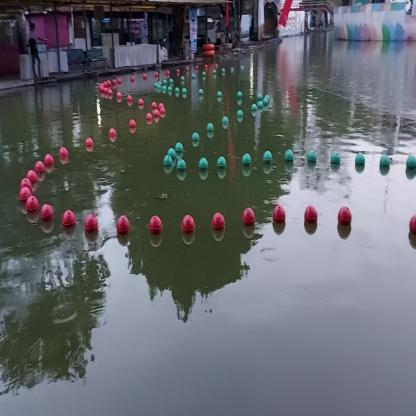green_buoy: (406, 155, 416, 178), (243, 149, 252, 174), (163, 154, 175, 172), (356, 152, 366, 173), (262, 148, 273, 166), (216, 156, 227, 174), (330, 152, 340, 171), (167, 145, 178, 162), (308, 147, 317, 165), (380, 155, 390, 171), (201, 157, 209, 176), (286, 147, 294, 164), (177, 158, 186, 172), (191, 134, 200, 146), (176, 142, 184, 154), (207, 123, 214, 134), (223, 118, 227, 130)
red_buoy: (239, 208, 259, 231), (148, 215, 164, 239), (116, 216, 132, 240), (84, 216, 101, 238), (212, 211, 226, 237), (272, 204, 287, 228), (336, 207, 352, 229), (182, 216, 195, 240), (26, 196, 40, 218), (62, 209, 76, 231), (42, 203, 56, 222), (42, 152, 54, 173), (305, 208, 317, 225), (58, 146, 69, 164), (36, 160, 46, 179), (408, 214, 415, 241), (21, 178, 32, 195), (20, 188, 30, 206), (128, 118, 138, 134), (85, 138, 94, 152), (28, 172, 38, 184), (110, 128, 116, 141)
